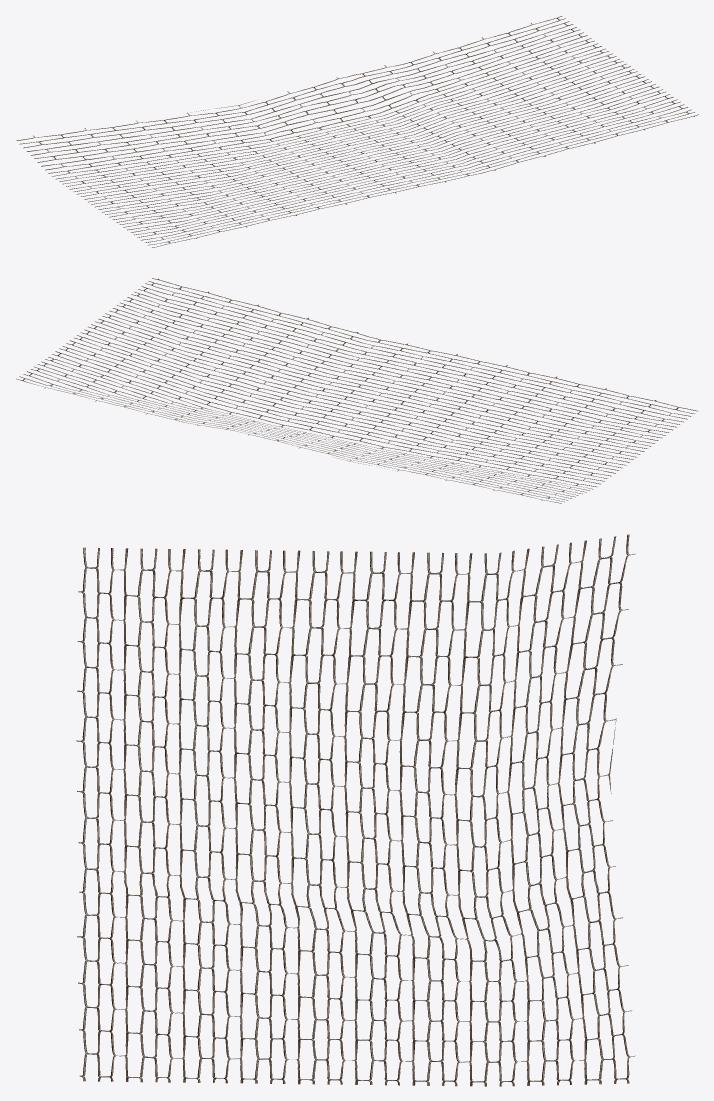
File: M_Home_Garden_Outside_Bed07.fbx
The picture shows the model from 3 angles, top to bottom: view 1: azimuth 30°, elevation 25°; view 2: azimuth 150°, elevation 25°; view 3: azimuth 270°, elevation 25°; orthographic projection. The views are drawn at different scales.
Visible parts, largest first — view 1: M_Home_Garden_Outside_Bed07; view 2: M_Home_Garden_Outside_Bed07; view 3: M_Home_Garden_Outside_Bed07.
Part boxes in pixels (bbox=[...]): M_Home_Garden_Outside_Bed07: bbox=[16, 16, 698, 247]; M_Home_Garden_Outside_Bed07: bbox=[16, 278, 698, 503]; M_Home_Garden_Outside_Bed07: bbox=[76, 534, 635, 1086].
Size of the model in its own units: 227 by 11.06 by 101.
